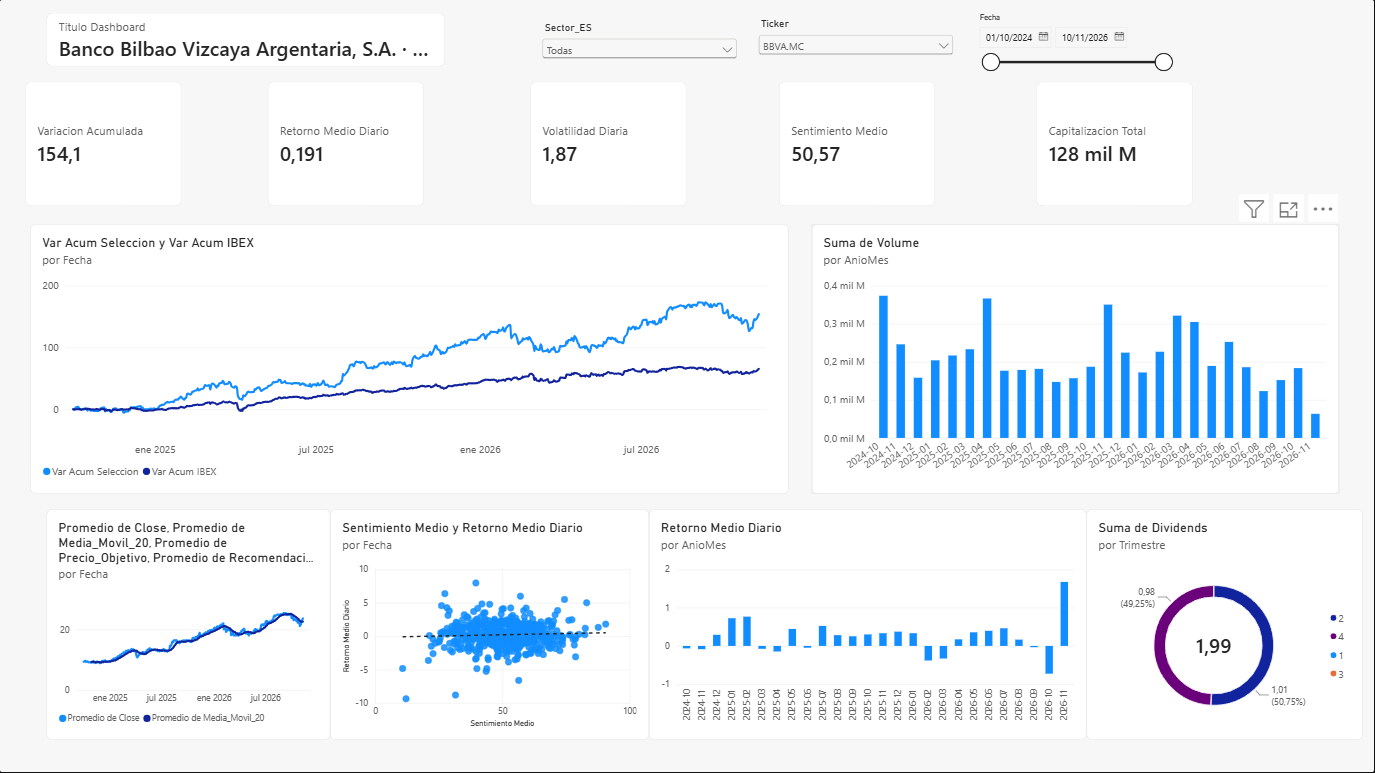

The page's visual inventory and layout, read from the dashboard file:
{"tool":"powerbi","page":{"name":"Dashboard","canvas":[1920,1080],"ordinal":3},"visuals":[{"type":"slicer","fields":{"Values":["Empresa.Sector_ES"]},"box":[753.5,31.4,280.8,68],"z":0},{"type":"slicer","fields":{"Values":["Empresa.Ticker"]},"box":[1055.2,26.2,280.8,80.2],"z":1000},{"type":"slicer","fields":{"Values":["Fecha.Fecha"]},"box":[1360.5,19.2,280.8,95.9],"z":2000},{"type":"cardVisual","fields":{"Data":["Hechos.Variacion Acumulada"]},"box":[36.6,115.1,218,174.4],"z":3000},{"type":"cardVisual","fields":{"Data":["Hechos.Retorno Medio Diario"]},"box":[375,115.1,218,174.4],"z":4000},{"type":"cardVisual","fields":{"Data":["Hechos.Volatilidad Diaria"]},"box":[741.3,115.1,218,174.4],"z":5000},{"type":"cardVisual","fields":{"Data":["Hechos.Sentimiento Medio"]},"box":[1088.4,115.1,218,174.4],"z":6000},{"type":"cardVisual","fields":{"Data":["Hechos.Capitalizacion Total"]},"box":[1447.7,115.1,218,174.4],"z":7000},{"type":"lineChart","fields":{"Category":["Fecha.Fecha"],"Y":["Hechos.Var Acum Seleccion","Hechos.Var Acum IBEX"]},"box":[43.6,314,1058.7,376.7],"z":8000},{"type":"clusteredColumnChart","fields":{"Category":["Fecha.AnioMes"],"Y":["Sum(Hechos.Volume)"]},"box":[1133.7,314,736,376.7],"z":9000},{"type":"lineChart","fields":{"Category":["Fecha.Fecha"],"Y":["Avg(Hechos.Close)","Avg(Hechos.Media_Movil_20)"]},"box":[66.3,711.6,395.9,322.7],"z":10000},{"type":"scatterChart","fields":{"Category":["Fecha.Fecha"],"X":["Hechos.Sentimiento Medio"],"Y":["Hechos.Retorno Medio Diario"]},"box":[462.2,711.6,444.8,322.7],"z":11000},{"type":"clusteredColumnChart","fields":{"Category":["Fecha.AnioMes"],"Y":["Hechos.Retorno Medio Diario"]},"box":[907,711.6,610.5,322.7],"z":12000},{"type":"donutChart","fields":{"Category":["Fecha.Trimestre"],"Y":["Sum(Hechos.Dividends)"]},"box":[1517.4,711.6,385.5,322.7],"z":13000},{"type":"cardVisual","fields":{"Data":["Hechos.Titulo Dashboard"]},"box":[66.3,19.2,556.4,75],"z":13001}]}

Visuals, with their boxes in screenshot pixels (x1, y1, x2, y2), scaled from the page's 1920x1080 canvas onto the 1375x773 screenshot:
slicer - Empresa.Sector_ES: x1=540, y1=22, x2=741, y2=71
slicer - Empresa.Ticker: x1=756, y1=19, x2=957, y2=76
slicer - Fecha.Fecha: x1=974, y1=14, x2=1175, y2=82
cardVisual - Hechos.Variacion Acumulada: x1=26, y1=82, x2=182, y2=207
cardVisual - Hechos.Retorno Medio Diario: x1=269, y1=82, x2=425, y2=207
cardVisual - Hechos.Volatilidad Diaria: x1=531, y1=82, x2=687, y2=207
cardVisual - Hechos.Sentimiento Medio: x1=779, y1=82, x2=936, y2=207
cardVisual - Hechos.Capitalizacion Total: x1=1037, y1=82, x2=1193, y2=207
lineChart - Fecha.Fecha x Hechos.Var Acum Seleccion: x1=31, y1=225, x2=789, y2=494
clusteredColumnChart - Fecha.AnioMes x Sum(Hechos.Volume): x1=812, y1=225, x2=1339, y2=494
lineChart - Fecha.Fecha x Avg(Hechos.Close): x1=47, y1=509, x2=331, y2=740
scatterChart - Fecha.Fecha x Hechos.Sentimiento Medio: x1=331, y1=509, x2=650, y2=740
clusteredColumnChart - Fecha.AnioMes x Hechos.Retorno Medio Diario: x1=650, y1=509, x2=1087, y2=740
donutChart - Fecha.Trimestre x Sum(Hechos.Dividends): x1=1087, y1=509, x2=1363, y2=740
cardVisual - Hechos.Titulo Dashboard: x1=47, y1=14, x2=446, y2=67
